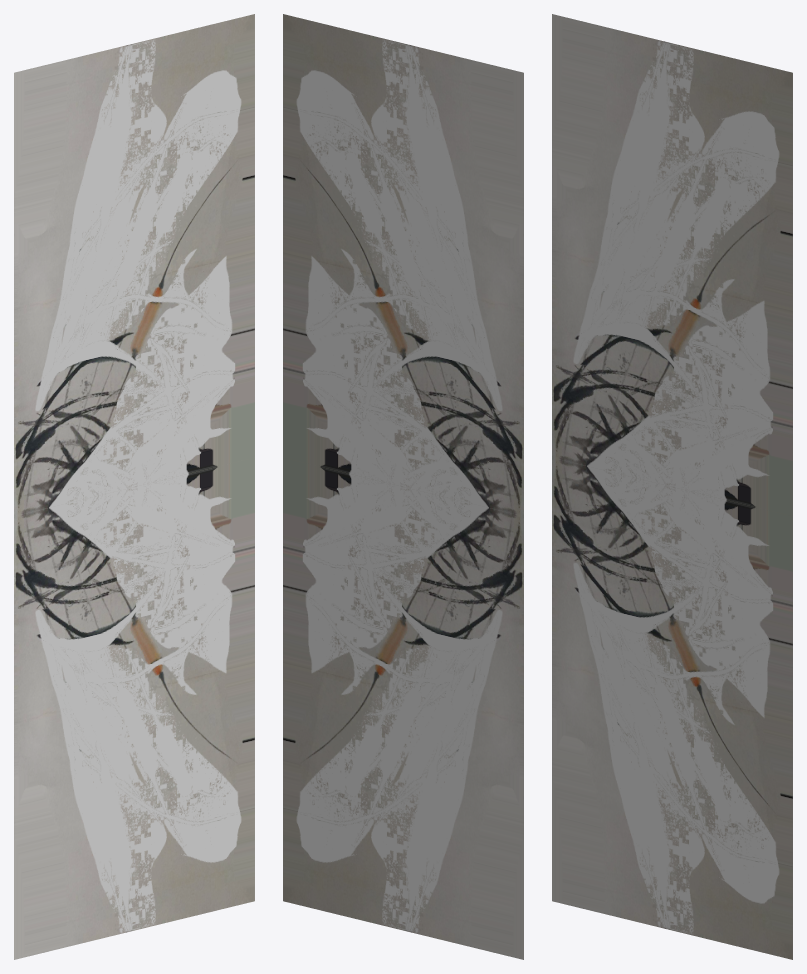
File: PPX_REED9.fbx
3 views of the same model, side by side, from view 1: azimuth 30°, elevation 25°; view 2: azimuth 150°, elevation 25°; view 3: azimuth 330°, elevation 25° (orthographic).
Visible parts, largest first — view 1: 色相_饱和度 1.png, 色相_饱和度 1.png_2; view 2: 色相_饱和度 1.png, 色相_饱和度 1.png_2; view 3: 色相_饱和度 1.png, 色相_饱和度 1.png_2.
Part boxes in pixels (box(x1,y1,x2,y2)): 色相_饱和度 1.png: box(14, 14, 254, 516); 色相_饱和度 1.png_2: box(14, 457, 254, 959); 色相_饱和度 1.png: box(283, 14, 523, 516); 色相_饱和度 1.png_2: box(283, 457, 523, 959); 色相_饱和度 1.png: box(552, 14, 792, 516); 色相_饱和度 1.png_2: box(552, 457, 792, 959).
Size of the model in its own units: 231 by 0 by 815.
Materials: 1 (1 with a texture image).
